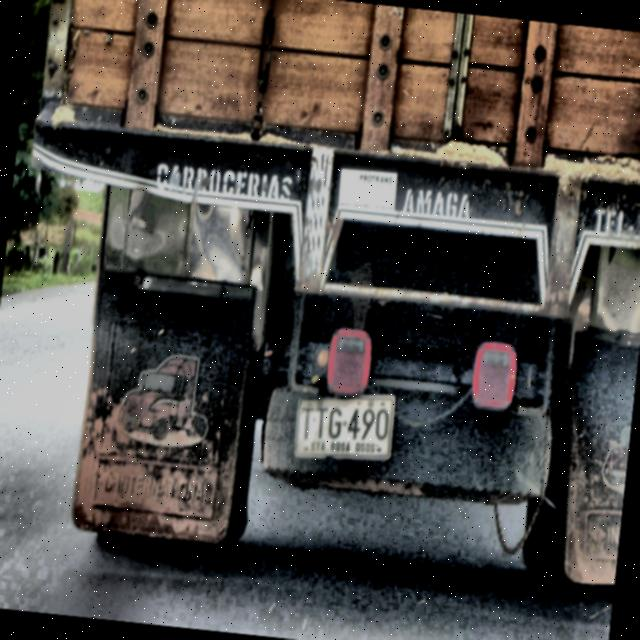0: (373, 406, 391, 442)
4: (346, 406, 362, 442)
9: (359, 406, 376, 442)
G: (326, 405, 344, 440)
T: (298, 404, 315, 440), (312, 404, 329, 440)
